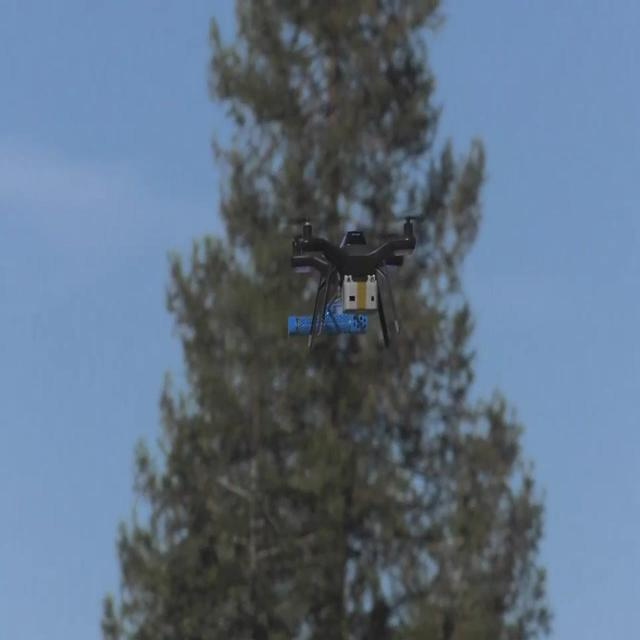UAV: (285, 215, 427, 351)
